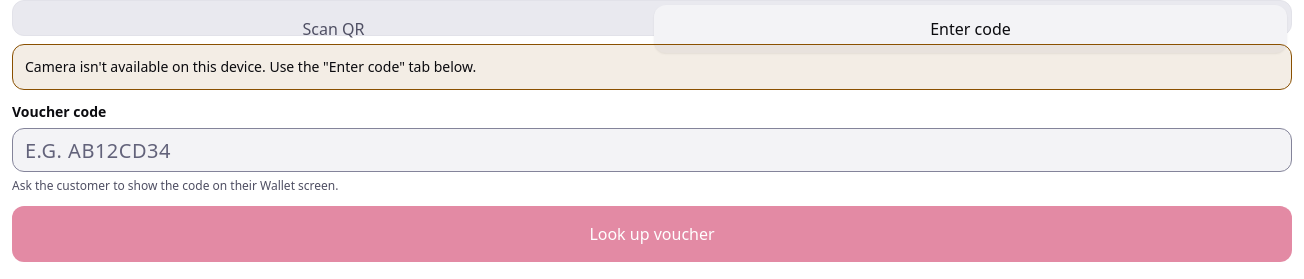
Test case: MerchantIdentifyPanel › disables the look-up button until a code is entered
Click the tab "Enter code": (970, 29) top-left (654, 5), bottom-right (1287, 53)
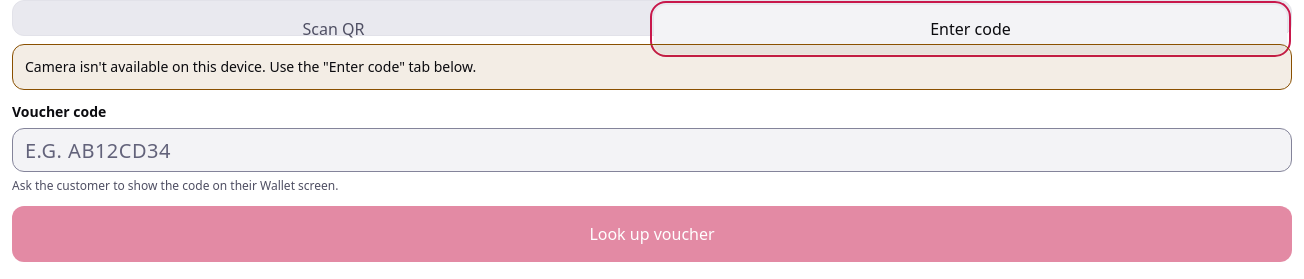
Check: the button "Look up voucher" is disabled, box top-left (12, 206), bottom-right (1292, 262)
In the field labelled "Voucher code": (652, 150) top-left (12, 128), bottom-right (1292, 172), type "X"
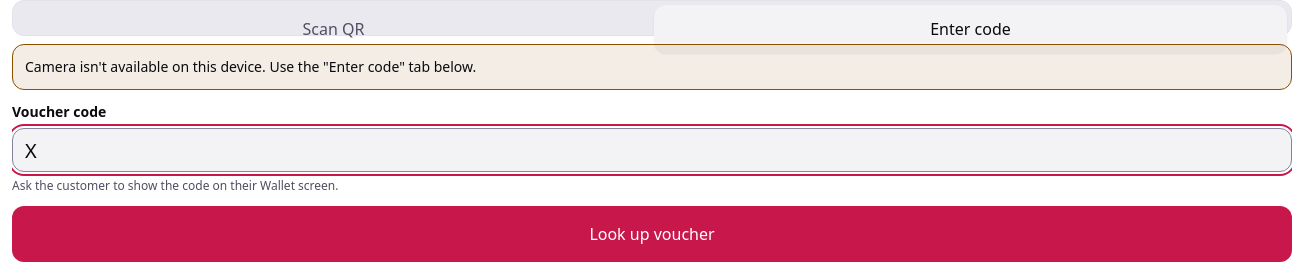
Check: the button "Look up voucher" is enabled, box top-left (12, 206), bottom-right (1292, 262)
